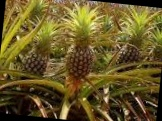Pineapple: (114, 8, 148, 72), (66, 7, 96, 77), (22, 20, 56, 78)
